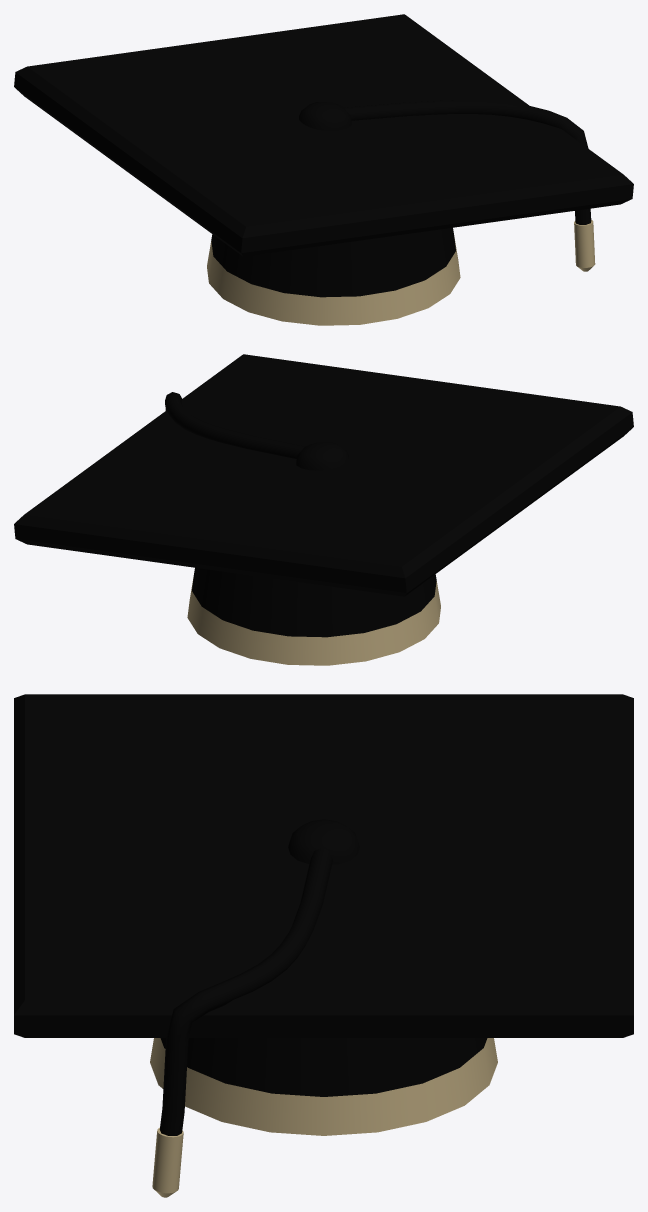
Rendered from Graduation hat.fbx.
3 renders of one model, top to bottom at view 1: azimuth 30°, elevation 25°; view 2: azimuth 150°, elevation 25°; view 3: azimuth 270°, elevation 25°, orthographic. The views are drawn at different scales.
Parts seen in each view (by area): view 1: pCylinder4; view 2: pCylinder4; view 3: pCylinder4.
Part boxes in pixels (x1,y1,x2,y2): pCylinder4: (14, 14, 633, 325); pCylinder4: (14, 354, 633, 665); pCylinder4: (14, 694, 633, 1197).
Size of the model in its own units: 0.8559 by 0.3544 by 0.8245.
